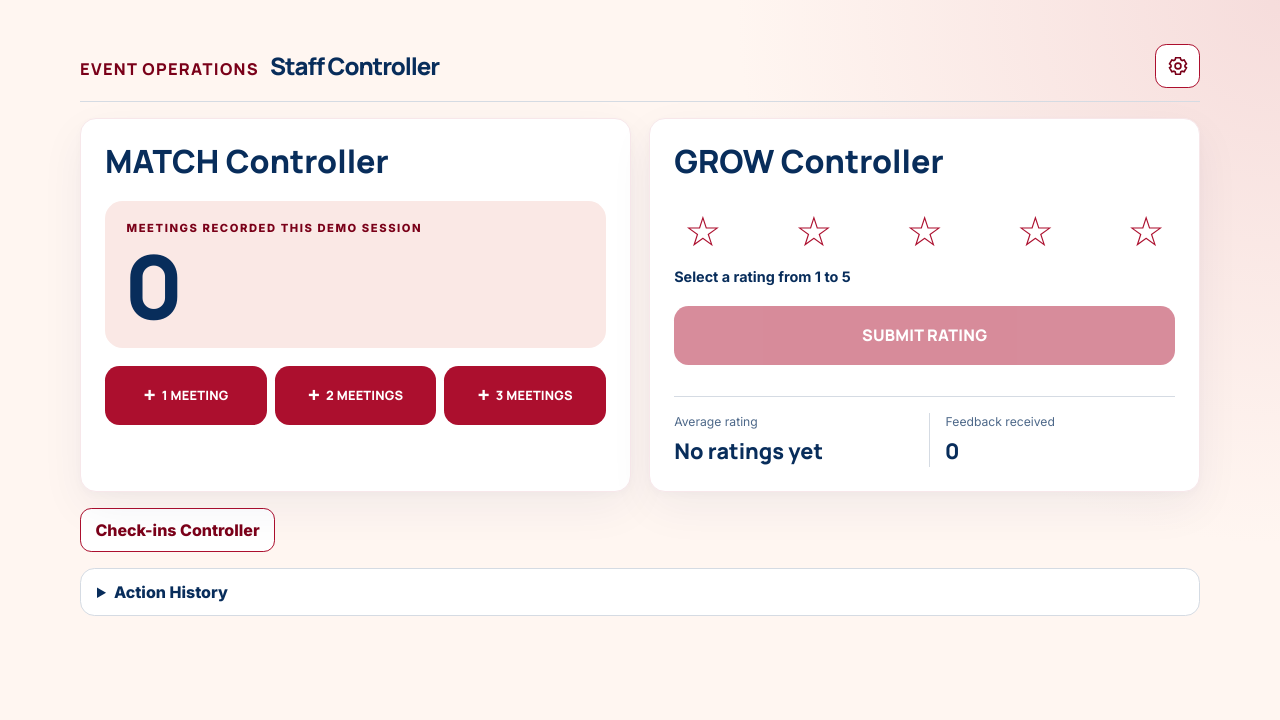
Test: StaffController › selects stars, submits feedback, updates statistics, and clears the selection
Check: the text "No ratings yet" is shown, box x1=674 y1=436 x2=823 y2=464
Click the button named "4 stars".
click(1035, 231)  # box x1=1007 y1=203 x2=1064 y2=260
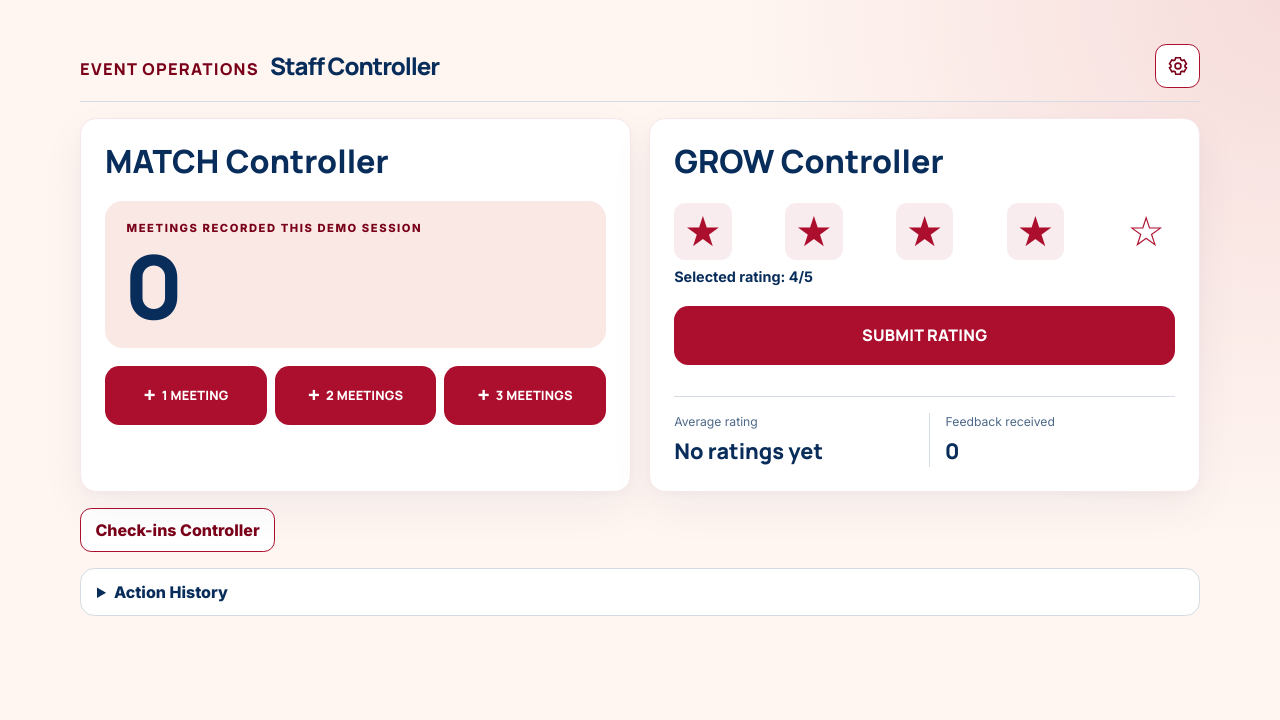
Check: the button named "5 stars" reads "☆", box x1=1117 y1=203 x2=1175 y2=260
Check: the text "Selected rating: 4/5" is shown, box x1=674 y1=268 x2=813 y2=285
Click the button "Submit Rating".
click(925, 335)  # box x1=674 y1=306 x2=1175 y2=365
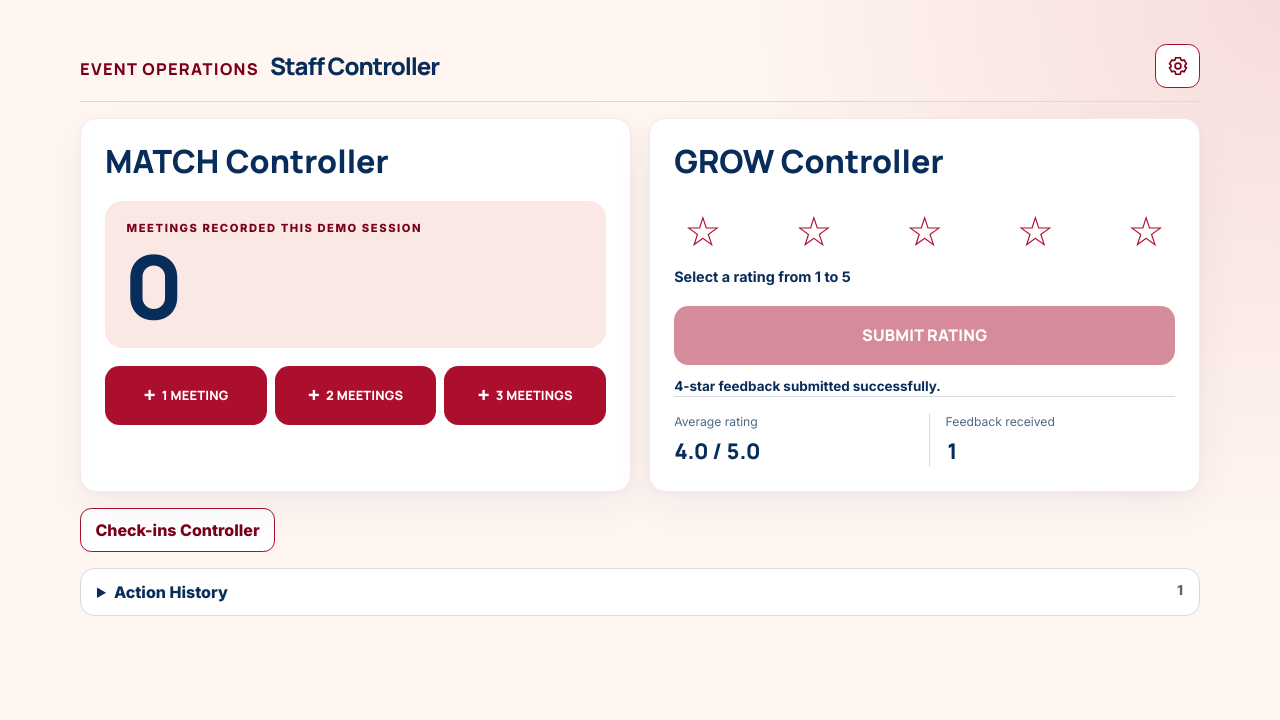
Check: the text "4-star feedback submitted successfully." is shown, box x1=674 y1=378 x2=941 y2=394
Check: the text "4.0 / 5.0" is shown, box x1=674 y1=436 x2=760 y2=464
Check: the text "Select a rating from 1 to 5" is shown, box x1=674 y1=268 x2=851 y2=285
Click the button named "2 stars".
click(814, 231)  # box x1=785 y1=203 x2=843 y2=260
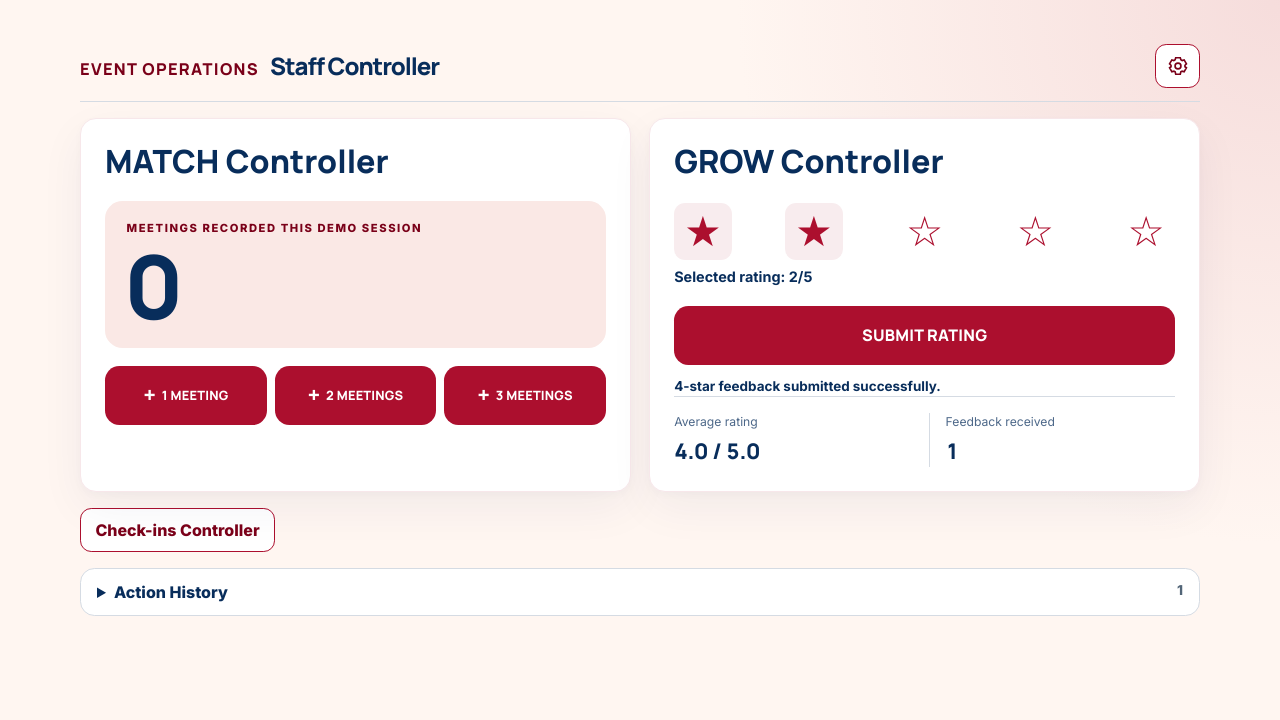
Click the button "Submit Rating".
click(925, 335)  # box x1=674 y1=306 x2=1175 y2=365
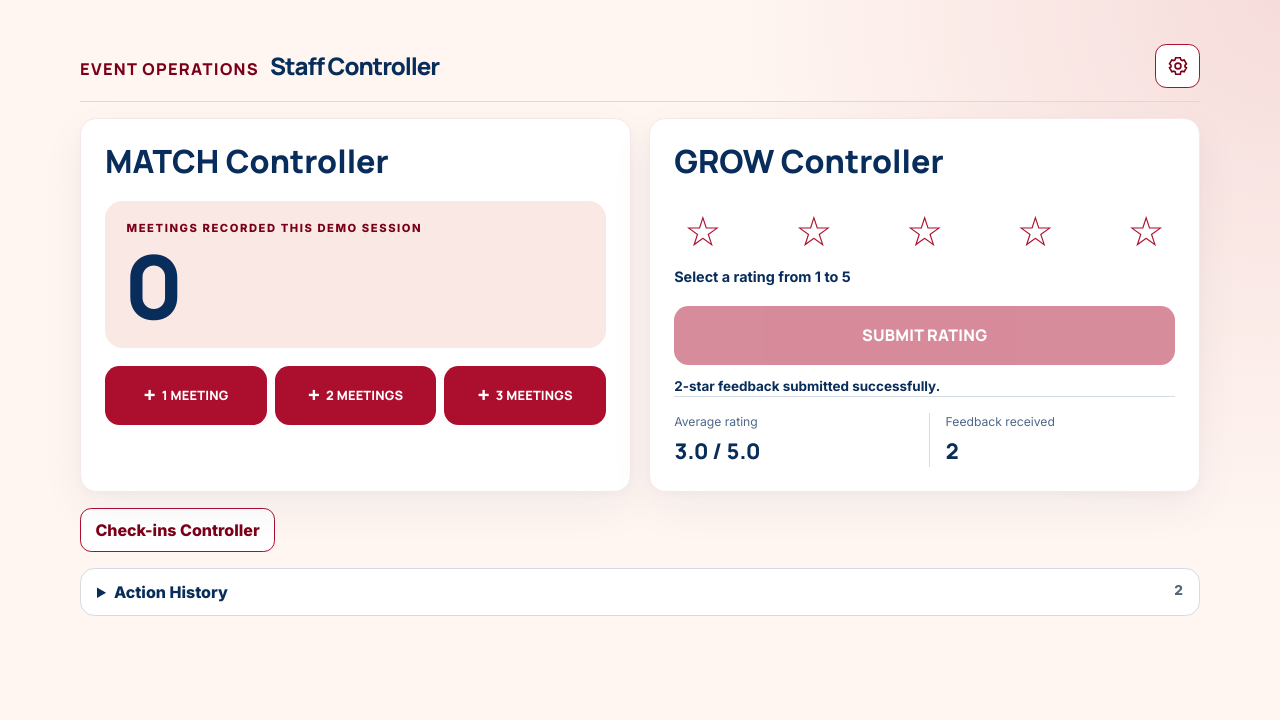
Check: the text "2-star feedback submitted successfully." is shown, box x1=674 y1=378 x2=940 y2=394
Check: the text "3.0 / 5.0" is shown, box x1=674 y1=436 x2=760 y2=464
Check: the text "2" below "Feedback received" is shown, box x1=946 y1=436 x2=959 y2=464
